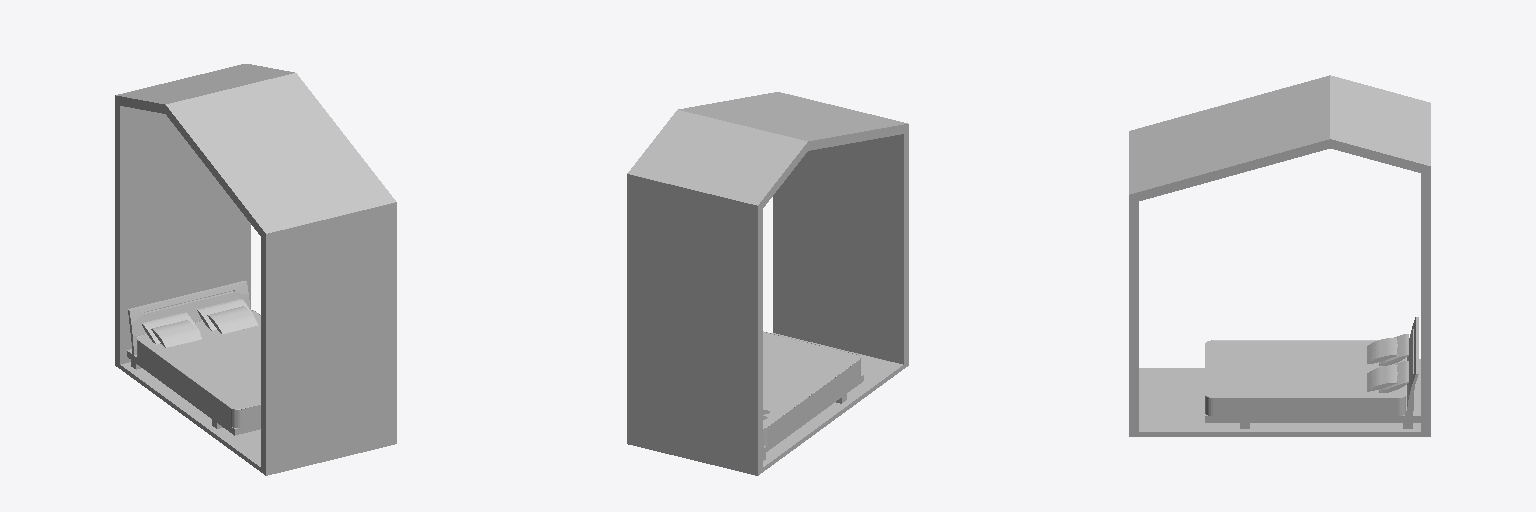
Rendered from modulo_cama_doble.obj.
3 views of the same model, side by side, from view 1: azimuth 30°, elevation 25°; view 2: azimuth 150°, elevation 25°; view 3: azimuth 270°, elevation 25° (orthographic).
Parts seen in each view (by area): view 1: Mesh2 m_dulo_cama_doble_dwg1 Model, Mesh9 m_dulo_cama_doble_dwg1 Model, Mesh3 m_dulo_cama_doble_dwg1 Model, Mesh7 m_dulo_cama_doble_dwg1 Model, Mesh5 m_dulo_cama_doble_dwg1 Model, Mesh12 m_dulo_cama_doble_dwg1 Model; view 2: Mesh2 m_dulo_cama_doble_dwg1 Model, Mesh9 m_dulo_cama_doble_dwg1 Model, Mesh12 m_dulo_cama_doble_dwg1 Model; view 3: Mesh2 m_dulo_cama_doble_dwg1 Model, Mesh9 m_dulo_cama_doble_dwg1 Model, Mesh12 m_dulo_cama_doble_dwg1 Model, Mesh3 m_dulo_cama_doble_dwg1 Model, Mesh7 m_dulo_cama_doble_dwg1 Model, Mesh5 m_dulo_cama_doble_dwg1 Model.
Boxes of the visible parts, box(x1,y1,x2,y2) form: Mesh2 m_dulo_cama_doble_dwg1 Model: box(115, 64, 396, 475); Mesh9 m_dulo_cama_doble_dwg1 Model: box(137, 310, 260, 427); Mesh3 m_dulo_cama_doble_dwg1 Model: box(128, 281, 250, 369); Mesh7 m_dulo_cama_doble_dwg1 Model: box(207, 306, 258, 334); Mesh5 m_dulo_cama_doble_dwg1 Model: box(151, 320, 201, 347); Mesh12 m_dulo_cama_doble_dwg1 Model: box(127, 349, 260, 435); Mesh2 m_dulo_cama_doble_dwg1 Model: box(627, 92, 908, 475); Mesh9 m_dulo_cama_doble_dwg1 Model: box(763, 332, 860, 446); Mesh12 m_dulo_cama_doble_dwg1 Model: box(763, 374, 863, 454); Mesh2 m_dulo_cama_doble_dwg1 Model: box(1129, 75, 1430, 436); Mesh9 m_dulo_cama_doble_dwg1 Model: box(1205, 341, 1405, 415); Mesh12 m_dulo_cama_doble_dwg1 Model: box(1205, 359, 1420, 422); Mesh3 m_dulo_cama_doble_dwg1 Model: box(1403, 317, 1418, 428); Mesh7 m_dulo_cama_doble_dwg1 Model: box(1367, 365, 1397, 391); Mesh5 m_dulo_cama_doble_dwg1 Model: box(1367, 338, 1397, 363).
Size of the model in its own units: 1501 by 3266 by 3001.